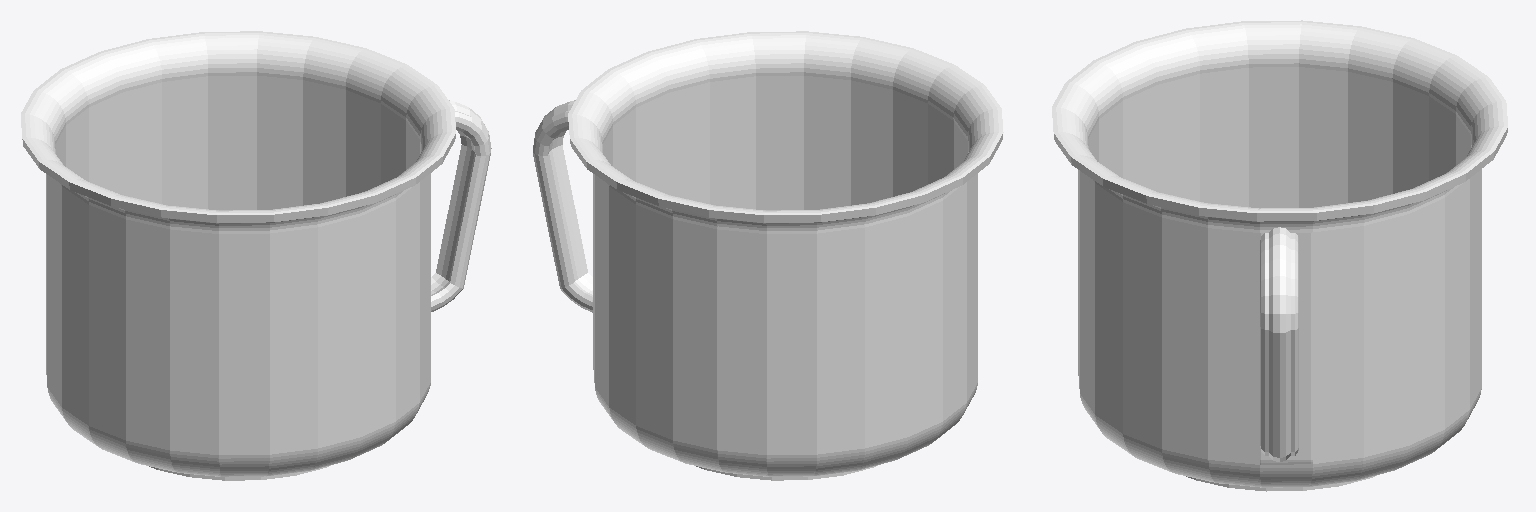
The robot description file, URDF, robot "cup":
<robot name="cup">
	<link name="_name">
		<visual>
			<origin rpy="0 0 0" xyz="-74.4811 -100.98505 -13.2291" />
			<geometry>
				<mesh filename="cup/46370d4f2653562b798e8a63b7b4edd2.obj" scale="1 1 1" />
			</geometry>
			<material name="texture">
				<color rgba="1.0 1.0 1.0 1.0" />
			</material>
		</visual>
		<collision>
			<geometry>
				<mesh filename="cup/46370d4f2653562b798e8a63b7b4edd2_vhacd.obj" scale="1 1 1" />
			</geometry>
		<origin rpy="0 0 0" xyz="-74.4811 -100.98505 -13.2291" /></collision>
		<inertial>
			<mass value="1.0" />
			<inertia ixx="1.0" ixy="0.0" ixz="0.0" iyy="1.0" iyz="0.0" izz="1.0" />
		</inertial>
	</link>
</robot>

--- Render facts (derived) ---
3 views of the same robot in one strip: view 1: azimuth 30°, elevation 25°; view 2: azimuth 150°, elevation 25°; view 3: azimuth 270°, elevation 25° (orthographic).
Robot: cup — 1 links, 0 joints (none); root link _name; default pose: every joint at zero.
Visible links, largest first — view 1: _name; view 2: _name; view 3: _name.
Link boxes in pixels (x1,y1,x2,y2): _name: (21, 31, 491, 480); _name: (533, 31, 1003, 480); _name: (1052, 20, 1507, 491).
Size in the robot's own frame: 13.66 by 11.72 by 8.99 metres.
Meshes: 1 distinct files referenced, 1 mesh visuals loaded (1 OBJ).